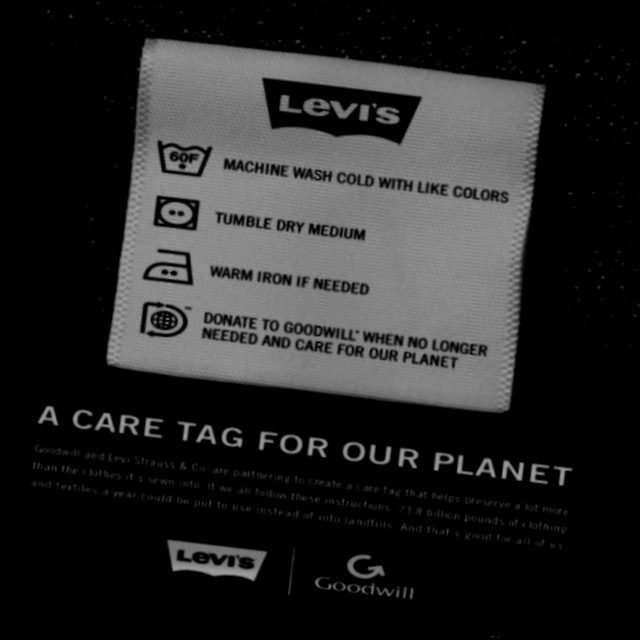30C: (143, 121, 225, 194)
iron_medium: (132, 232, 210, 301)
tumble_dry_medium: (140, 183, 213, 246)
